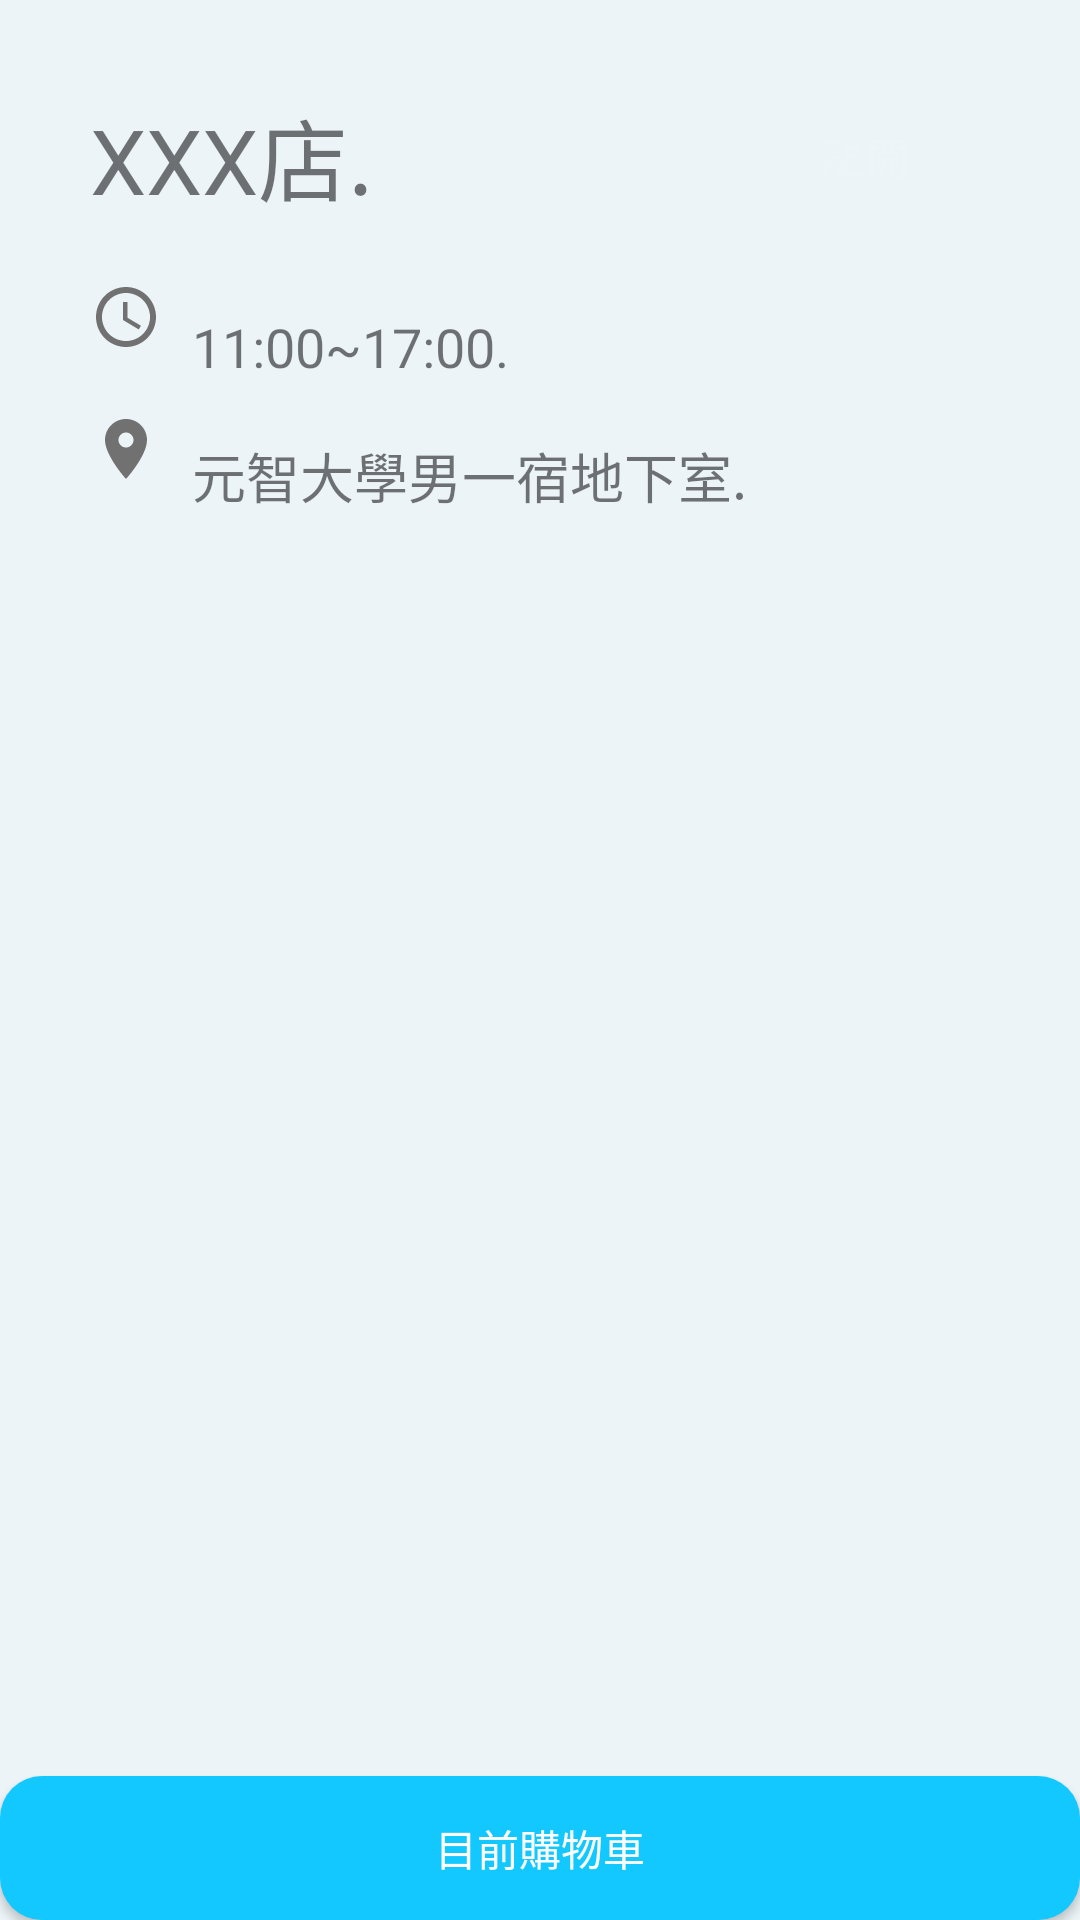

Icon bounding boxes for this 1080px×1920px phone screenshot, format box(x1, y1, x2, y2):
access time: box(96, 287, 156, 347)
place: box(105, 419, 147, 479)
